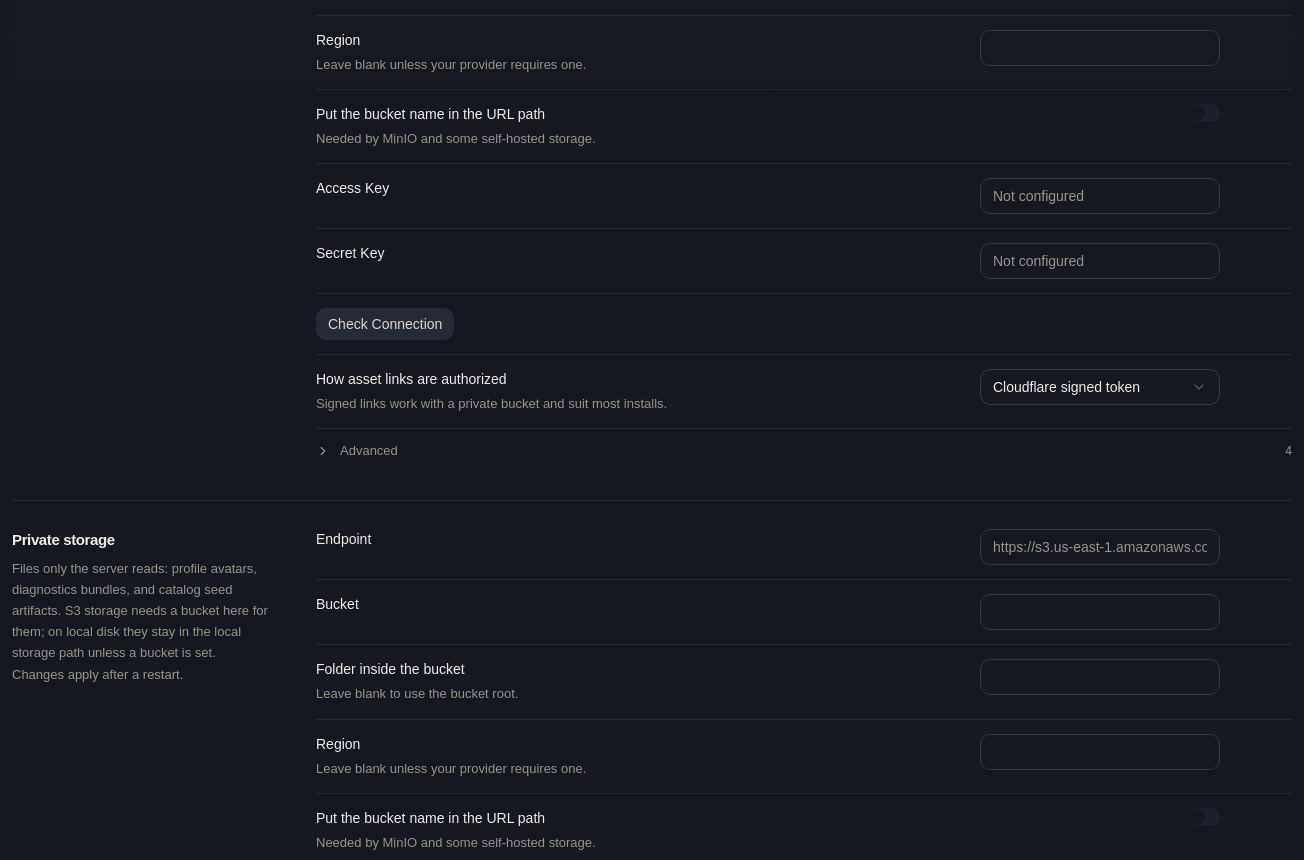
it: StorageSettings › keeps the cloudflare_token link settings behind public storage's Advanced disclosure
The width and height of the screenshot is (1304, 860).
(page scrolled)
Expected: the field labelled "Address clients download from" is not shown
Expected: the field labelled "Token Secret" is not shown
Click the button "Advanced 4": x=369, y=450 [316,429,1292,472]
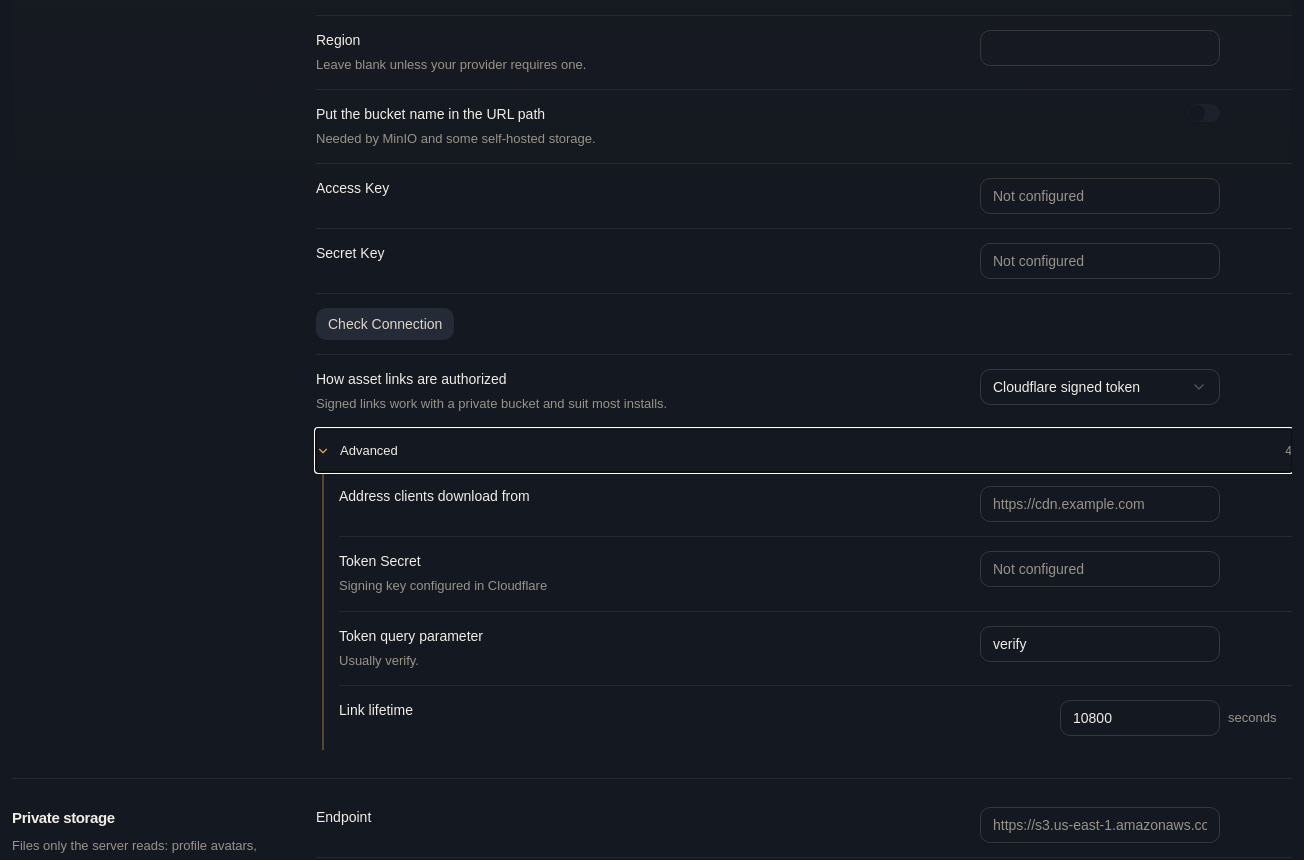
Result: the field labelled "Address clients download from" is shown at [980,486,1220,522]
Result: the password field labelled "Token Secret" is shown at [980,551,1220,587]
Result: the field labelled "Token query parameter" is shown at [980,626,1220,662]
